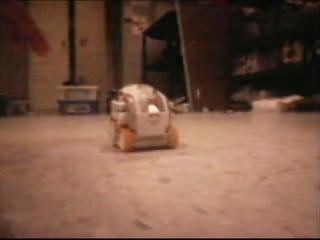cozmo: (108, 83, 179, 152)
